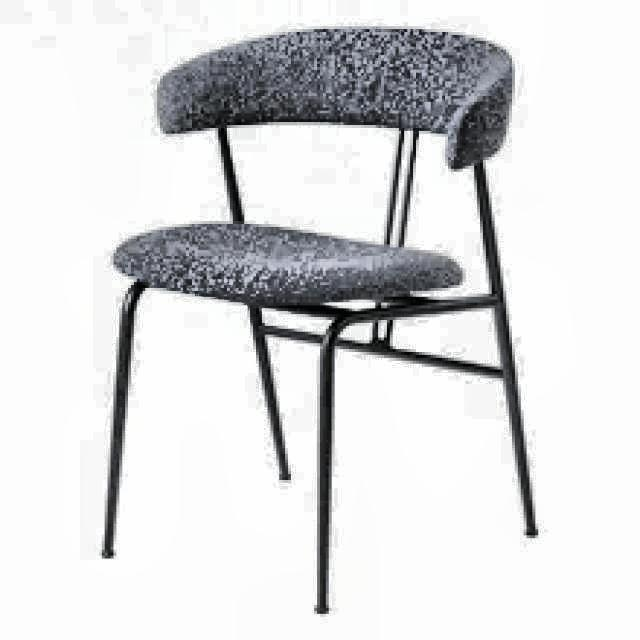cadeira: (97, 20, 545, 616), (111, 23, 524, 320)
